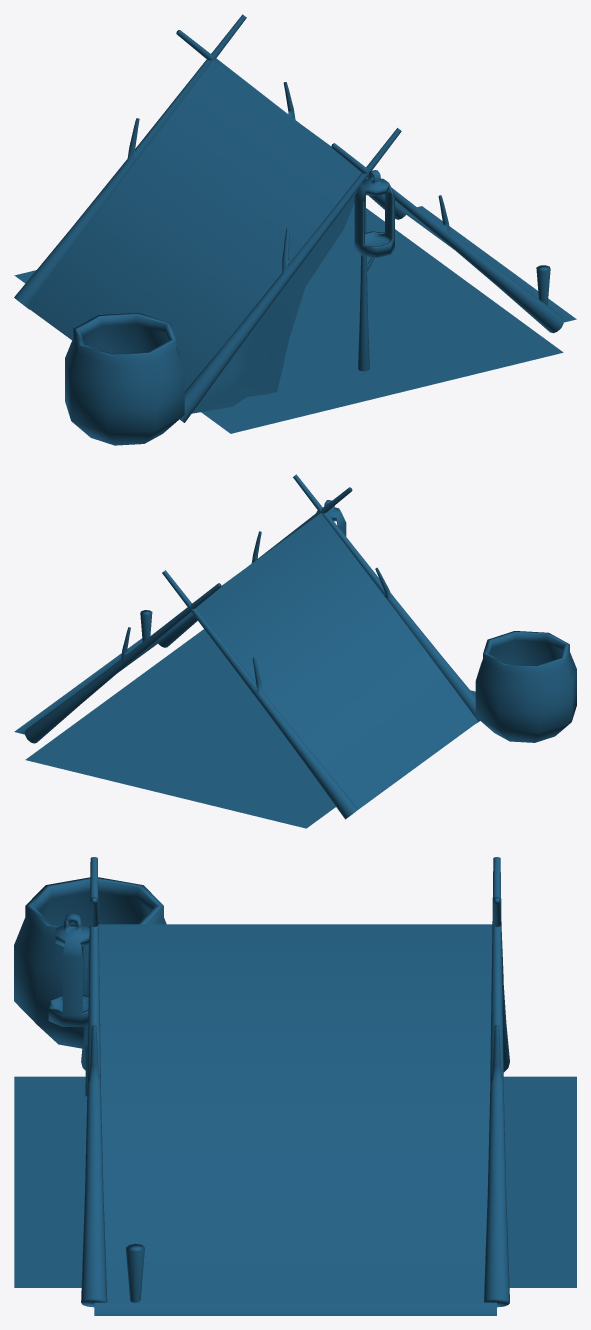
File: Tent.fbx
3 renders of one model, top to bottom at view 1: azimuth 30°, elevation 25°; view 2: azimuth 150°, elevation 25°; view 3: azimuth 270°, elevation 25°, orthographic. The views are drawn at different scales.
Parts seen in each view (by area): view 1: Tent1, Base_Tent, Jar, Tent2, Pin3, Pin4, Pin1, Lamp, Pin5, Pin2; view 2: Tent1, Base_Tent, Jar, Pin4, Pin2, Pin3, Pin1; view 3: Tent1, Base_Tent, Jar, Pin1, Pin2, Lamp, Pin6, Pin4.
Part boxes in pixels (x1,y1,x2,y2): Tent1: (27,60,576,391); Base_Tent: (14,203,563,433); Jar: (65,313,184,445); Tent2: (192,189,358,413); Pin3: (179,128,401,422); Pin4: (14,14,246,309); Pin1: (331,143,563,333); Lamp: (354,170,394,257); Pin5: (358,196,374,371); Pin2: (176,30,405,219); Tent1: (14,513,478,809); Base_Tent: (25,629,475,828); Jar: (475,631,576,742); Pin4: (162,570,358,819); Pin2: (25,583,221,743); Pin3: (293,474,479,723); Pin1: (158,487,352,647); Tent1: (94,924,496,1315); Base_Tent: (14,1076,576,1287); Jar: (14,877,166,1048); Pin1: (81,857,107,1307); Pin2: (484,857,509,1307); Lamp: (48,913,89,1026); Pin6: (126,1243,144,1302); Pin4: (492,897,509,1072).
Size of the model in its own units: 56.54 by 25.8 by 41.93.
